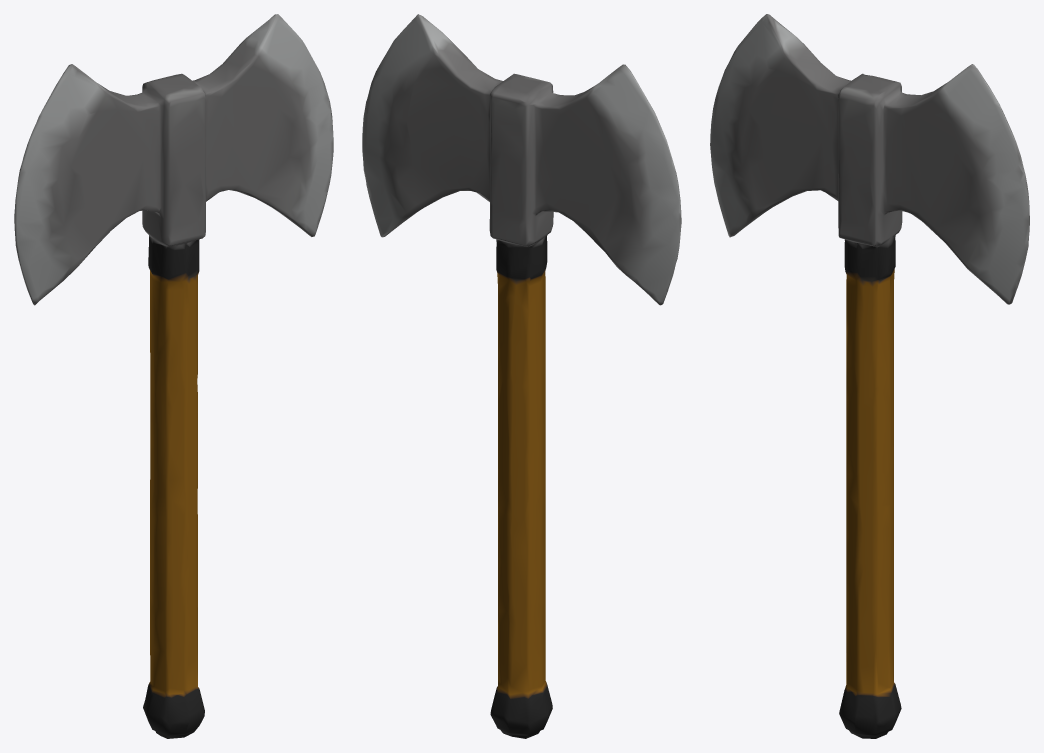
Rendered from gen3d-battle-axe-lod0.glb.
The picture shows the model from 3 angles, left to right: view 1: azimuth 30°, elevation 25°; view 2: azimuth 150°, elevation 25°; view 3: azimuth 330°, elevation 25°; orthographic projection.
Visible parts, largest first — view 1: part_0; view 2: part_0; view 3: part_0.
Part boxes in pixels (<box>): part_0: <box>14,14,333,738</box>; part_0: <box>362,14,681,738</box>; part_0: <box>710,14,1029,738</box>.
Bounding box in the file's own units: 0.4817 × 0.9993 × 0.0805.
